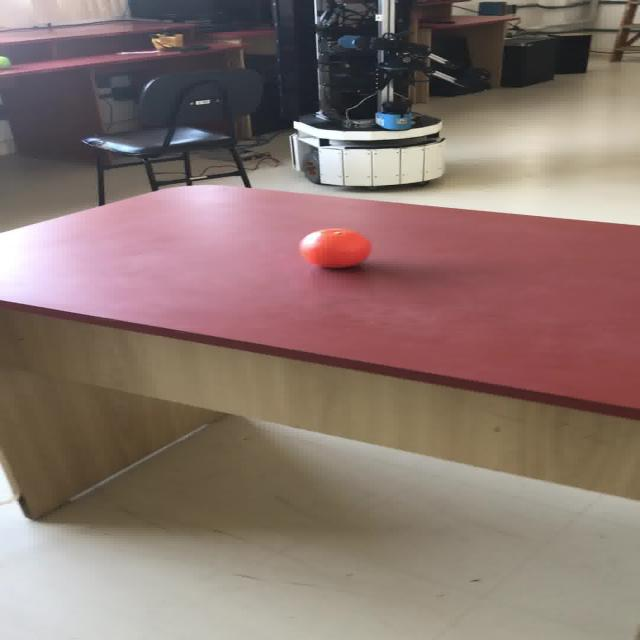orange: (297, 227, 370, 268)
